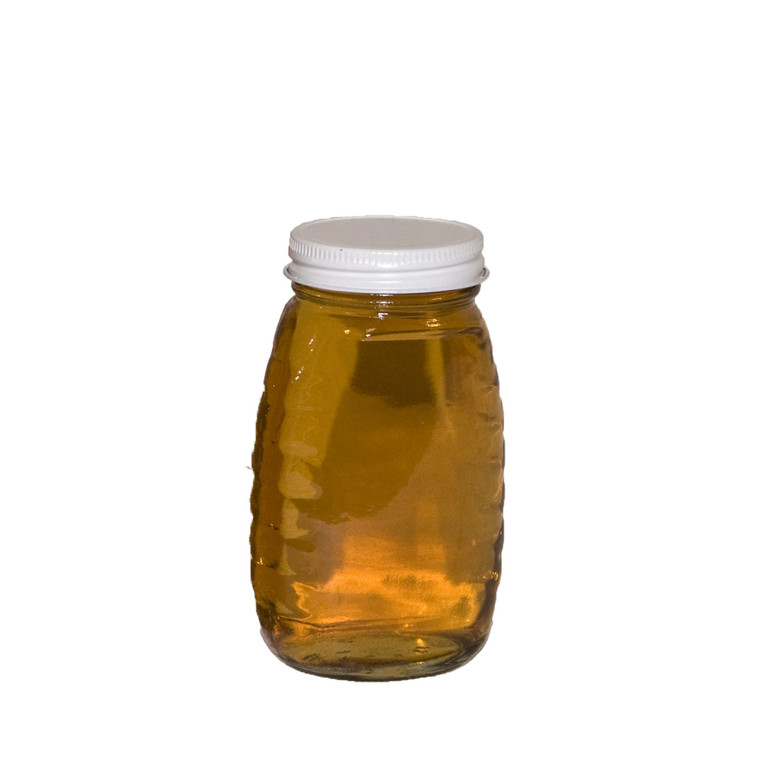Rec_Glass: (244, 186, 513, 683)
